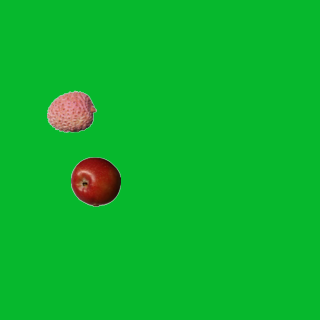Apple Braeburn: (70, 156, 120, 206)
Lychee: (46, 86, 96, 136)
